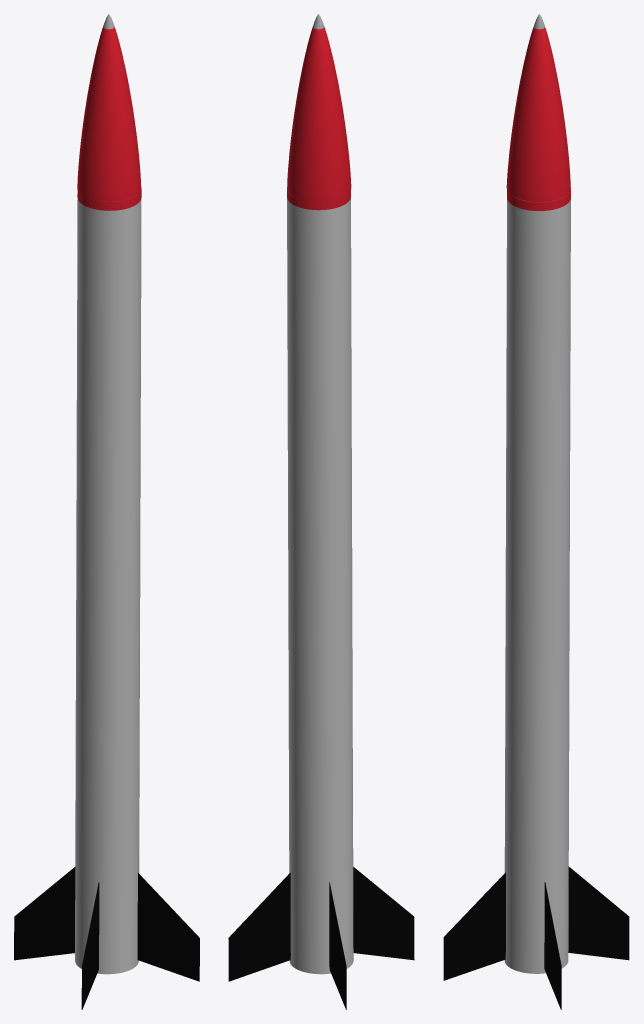
The model's file is charlie.gltf.
3 renders of one model, left to right at view 1: azimuth 30°, elevation 25°; view 2: azimuth 150°, elevation 25°; view 3: azimuth 330°, elevation 25°, orthographic.
Parts seen in each view (by area): view 1: fuselaje, Ojiva, wing3, wing1, wing2, Assembly_DELTA030; view 2: fuselaje, Ojiva, wing4, wing2, wing1, Assembly_DELTA030; view 3: fuselaje, Ojiva, wing2, wing4, wing3, Assembly_DELTA030.
Boxes of the visible parts, box(x1,y1,x2,y2) form: fuselaje: box(75, 199, 141, 974); Ojiva: box(77, 14, 141, 201); wing3: box(137, 873, 199, 981); wing1: box(14, 867, 75, 960); wing2: box(81, 882, 99, 1009); Assembly_DELTA030: box(77, 188, 141, 210); fuselaje: box(287, 198, 353, 974); Ojiva: box(287, 14, 351, 201); wing4: box(228, 872, 290, 981); wing2: box(353, 867, 414, 960); wing1: box(329, 882, 346, 1009); Assembly_DELTA030: box(287, 187, 350, 210); fuselaje: box(504, 199, 570, 973); Ojiva: box(506, 14, 570, 201); wing2: box(443, 872, 505, 980); wing4: box(568, 866, 629, 960); wing3: box(544, 882, 561, 1009); Assembly_DELTA030: box(507, 187, 570, 210).
Bounding box in the file's own units: 0.8524 × 6.59 × 0.8514.
